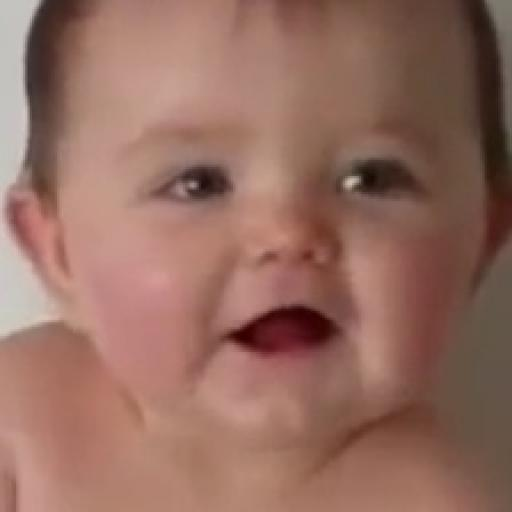Autism: (46, 18, 494, 453)
